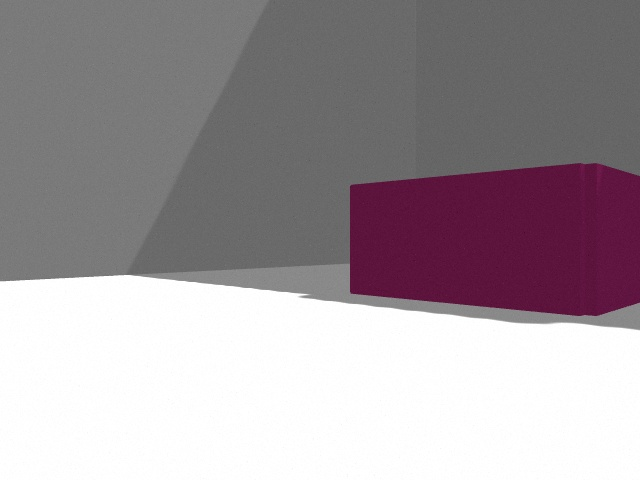red_drop_zone: (350, 163, 640, 316)
